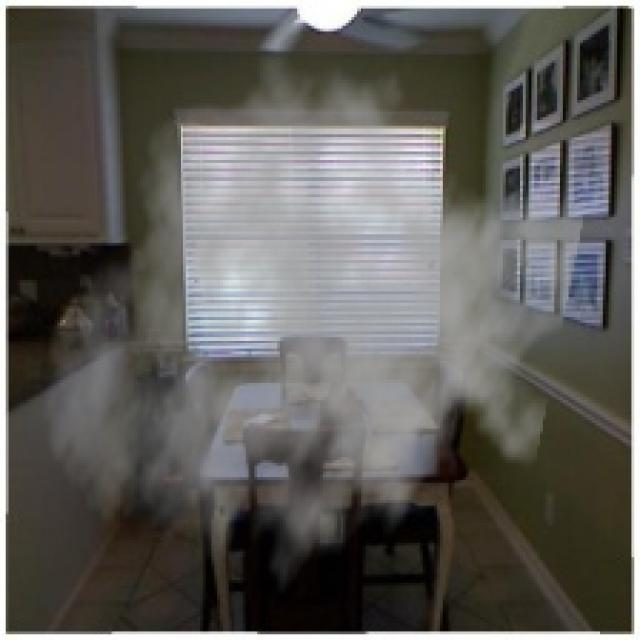smoke: (40, 46, 589, 614)
